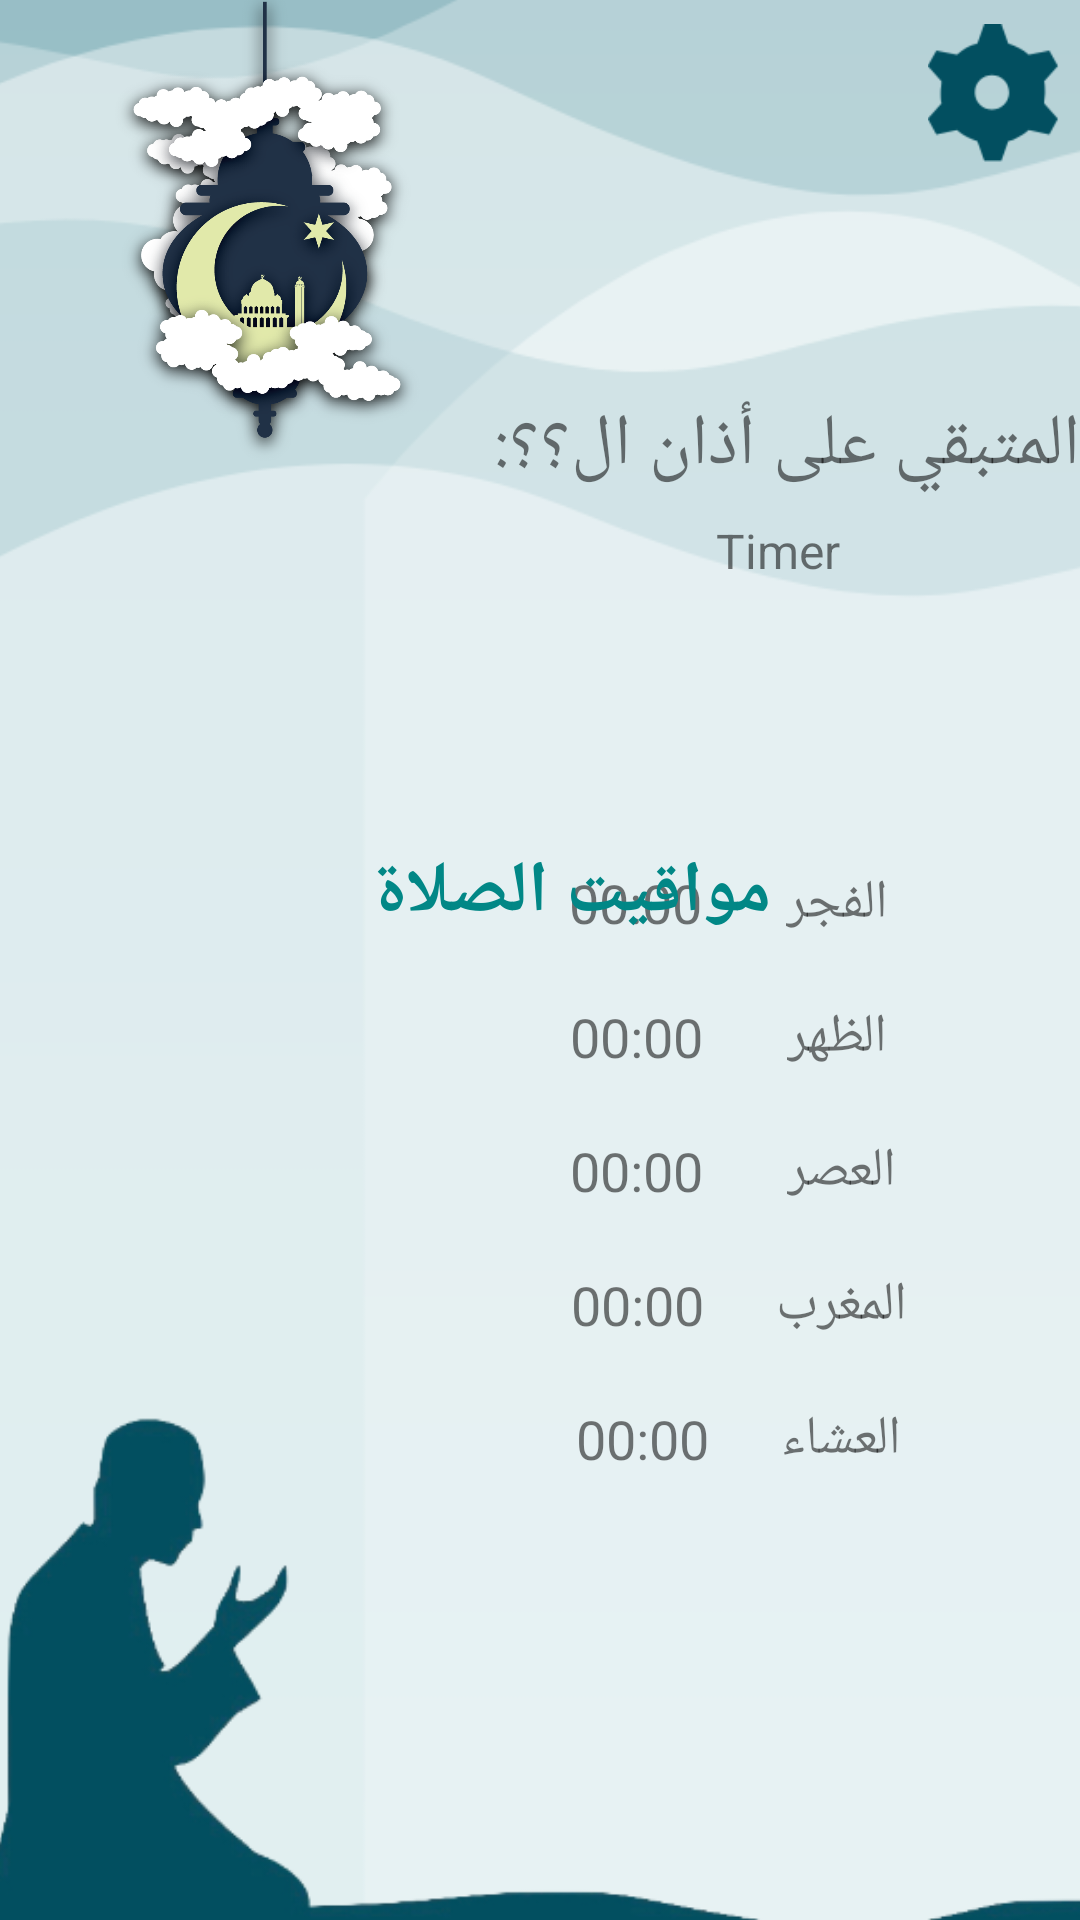

Where icons sit on this 1080×1920 app screen, as (x1,y1,x2,y2):
settings: (928,24,1058,162)
